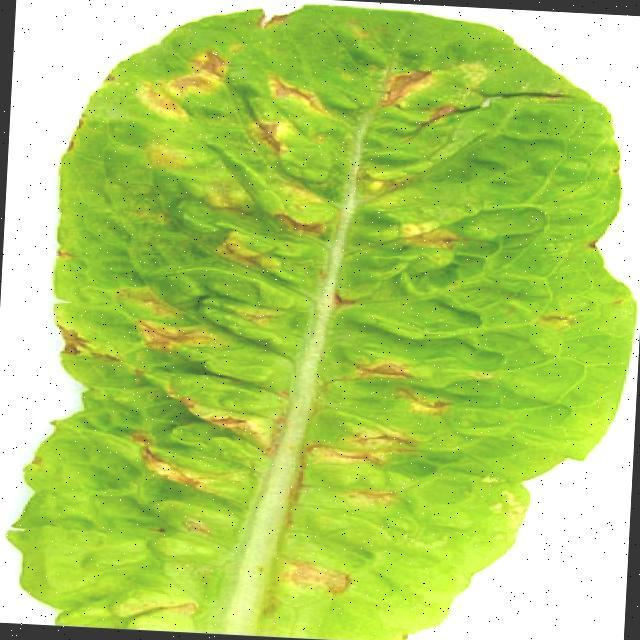Downy_Mildew: (56, 4, 472, 636)
